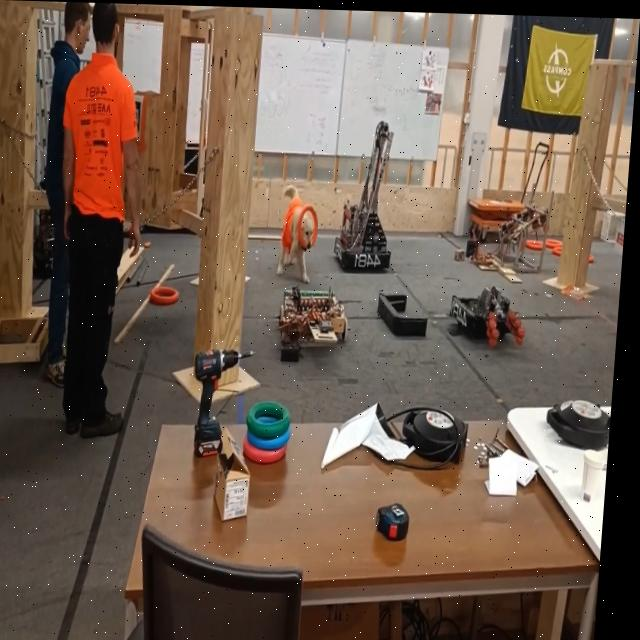note: (300, 204, 324, 247), (151, 284, 186, 308), (527, 235, 550, 245), (550, 233, 566, 245)
robot: (336, 112, 404, 271), (451, 282, 534, 346)
